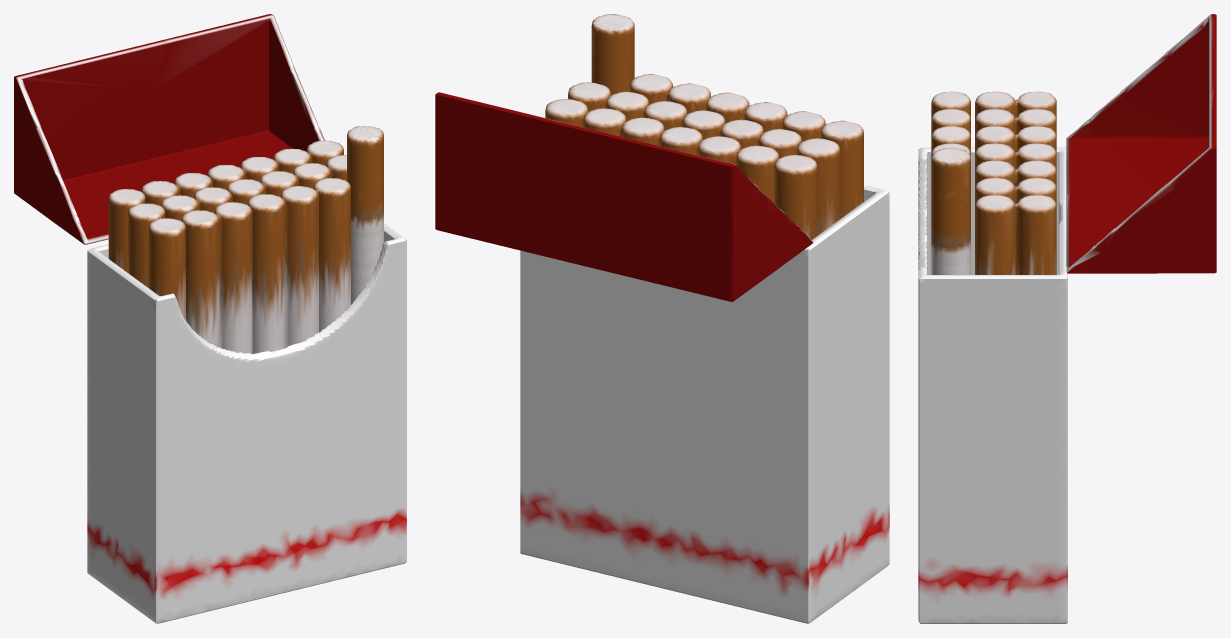
Rendered from CigarettePack.fbx.
The picture shows the model from 3 angles, left to right: view 1: azimuth 30°, elevation 25°; view 2: azimuth 150°, elevation 25°; view 3: azimuth 270°, elevation 25°; orthographic projection. The views are drawn at different scales.
Visible parts, largest first — view 1: Box, Lid, CigaretteGroup, CigaretteSingle; view 2: Box, Lid, CigaretteGroup, CigaretteSingle; view 3: Box, Lid, CigaretteGroup, CigaretteSingle.
Boxes of the visible parts, x1=… form: Box: x1=87, y1=223, x2=406, y2=623; Lid: x1=14, y1=14, x2=324, y2=244; CigaretteGroup: x1=108, y1=140, x2=350, y2=353; CigaretteSingle: x1=347, y1=126, x2=383, y2=304; Box: x1=520, y1=185, x2=889, y2=623; Lid: x1=435, y1=92, x2=813, y2=301; CigaretteGroup: x1=545, y1=74, x2=863, y2=239; CigaretteSingle: x1=591, y1=14, x2=634, y2=95; Box: x1=918, y1=147, x2=1067, y2=623; Lid: x1=1066, y1=14, x2=1216, y2=273; CigaretteGroup: x1=931, y1=91, x2=1056, y2=274; CigaretteSingle: x1=931, y1=148, x2=970, y2=274.
Bounding box in the file's own units: 8.21 × 13.63 × 7.7.
